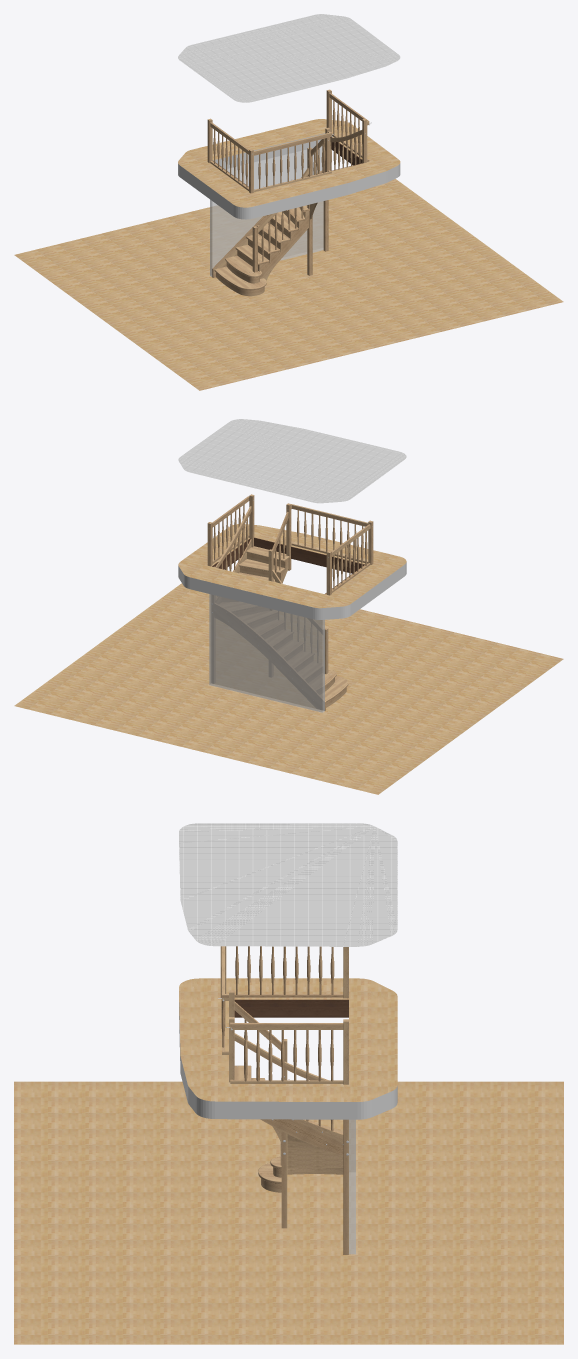
Rendered from Olyga Toksovo.dae.
3 views of the same model, one above another, from view 1: azimuth 30°, elevation 25°; view 2: azimuth 150°, elevation 25°; view 3: azimuth 270°, elevation 25° (orthographic). The views are drawn at different scales.
Parts seen in each view (by area): view 1: StairCon (×8); view 2: StairCon (×7); view 3: StairCon (×10).
Boxes of the visible parts, bbox=[...] form: StairCon (×8): bbox=[14, 14, 563, 390]; StairCon (×7): bbox=[14, 419, 563, 794]; StairCon (×10): bbox=[14, 823, 563, 1344].
Size of the model in its own units: 8.98 by 7.93 by 5.22.
16 materials, 10 textured.
